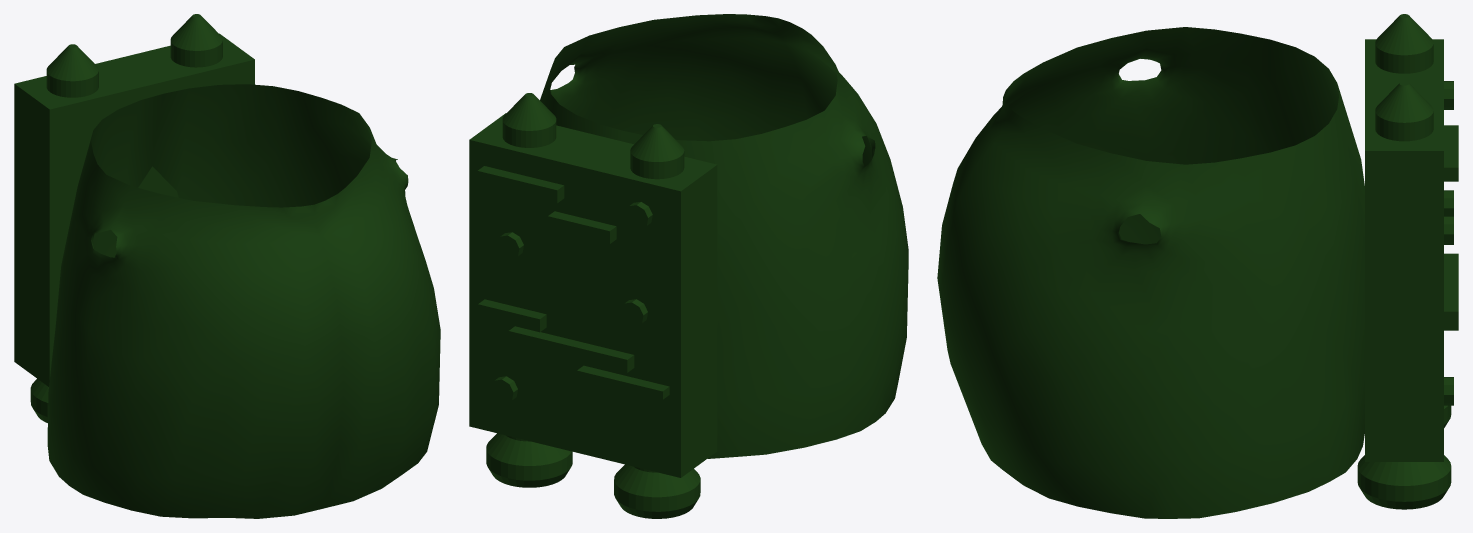
File: Skipper.fbx
The picture shows the model from 3 angles, left to right: view 1: azimuth 30°, elevation 25°; view 2: azimuth 150°, elevation 25°; view 3: azimuth 270°, elevation 25°; orthographic projection. The views are drawn at different scales.
Visible parts, largest first — view 1: Ropa, Jetpack; view 2: Ropa, Jetpack; view 3: Ropa, Jetpack.
Boxes of the visible parts, left/top/right/bottom form: Ropa: left=47, top=84, right=440, bottom=518; Jetpack: left=14, top=14, right=254, bottom=422; Ropa: left=540, top=14, right=908, bottom=458; Jetpack: left=469, top=93, right=717, bottom=518; Ropa: left=937, top=27, right=1364, bottom=518; Jetpack: left=1357, top=14, right=1458, bottom=509.
Bounding box in the file's own units: 46.16 × 46.97 × 54.28.
